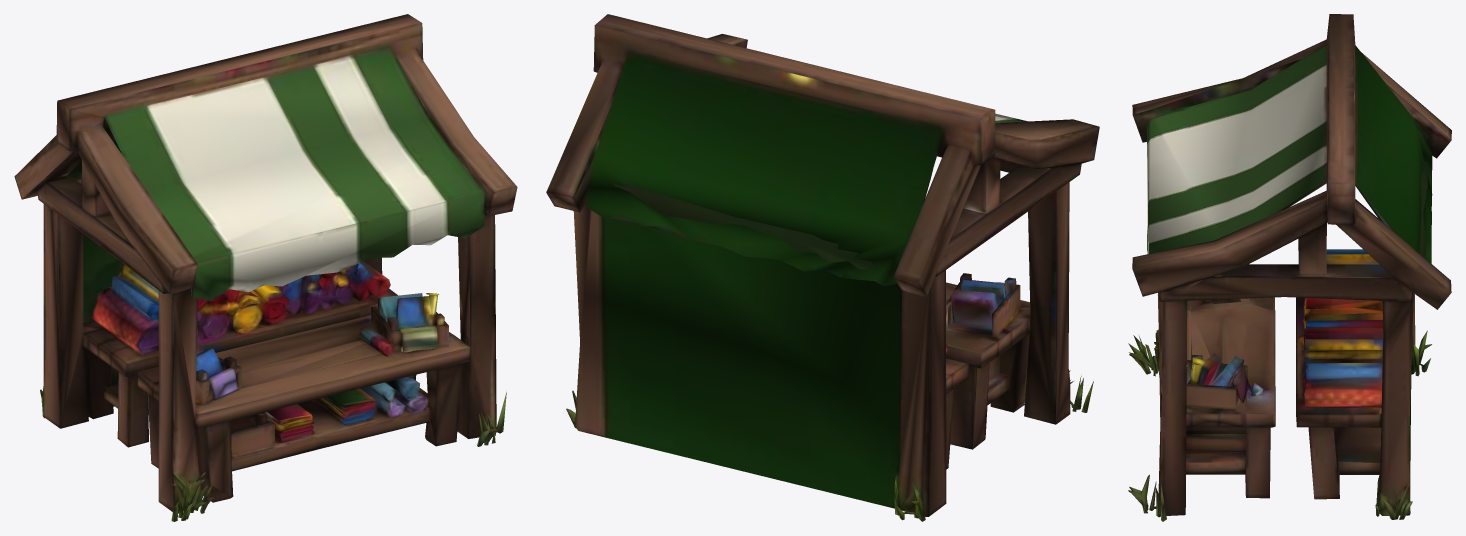
The model's file is market-stall-b.glb.
The picture shows the model from 3 angles, left to right: view 1: azimuth 30°, elevation 25°; view 2: azimuth 150°, elevation 25°; view 3: azimuth 270°, elevation 25°; orthographic projection. The views are drawn at different scales.
Visible parts, largest first — view 1: node_0; view 2: node_0; view 3: node_0.
Part boxes in pixels (left/top/right/bottom): node_0: left=14, top=14, right=517, bottom=521; node_0: left=546, top=14, right=1099, bottom=521; node_0: left=1128, top=14, right=1451, bottom=521.
Bounding box in the file's own units: 2.97 × 2.79 × 2.4.
1 material, 1 textured.
